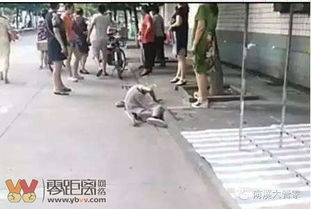falling: (114, 76, 171, 129)
